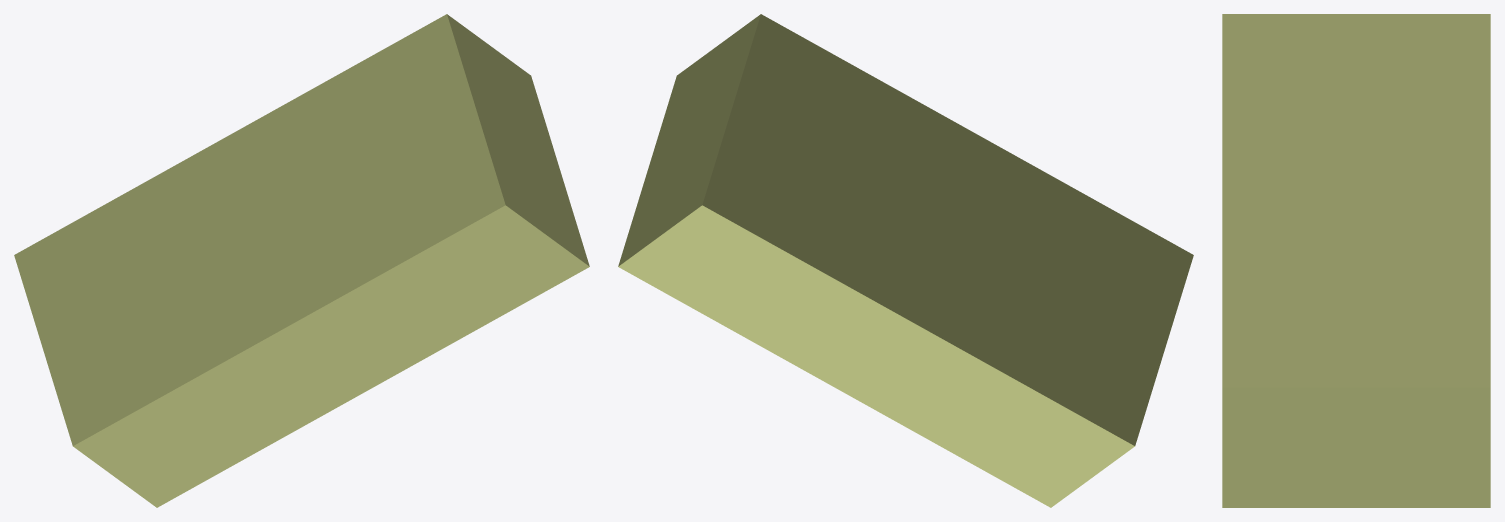
The picture shows the model from 3 angles, left to right: view 1: azimuth 30°, elevation 25°; view 2: azimuth 150°, elevation 25°; view 3: azimuth 270°, elevation 25°; orthographic projection. The views are drawn at different scales.
Visible parts, largest first — view 1: 0_0_1_1_2_2_0_2_0_2; view 2: 0_0_1_1_2_2_0_2_0_2; view 3: 0_0_1_1_2_2_0_2_0_2.
Part boxes in pixels (x1,y1,x2,y2): 0_0_1_1_2_2_0_2_0_2: (14,14,589,507); 0_0_1_1_2_2_0_2_0_2: (618,14,1193,507); 0_0_1_1_2_2_0_2_0_2: (1222,14,1490,507).
Bounding box in the file's own units: 20.22 × 13.41 × 6.
